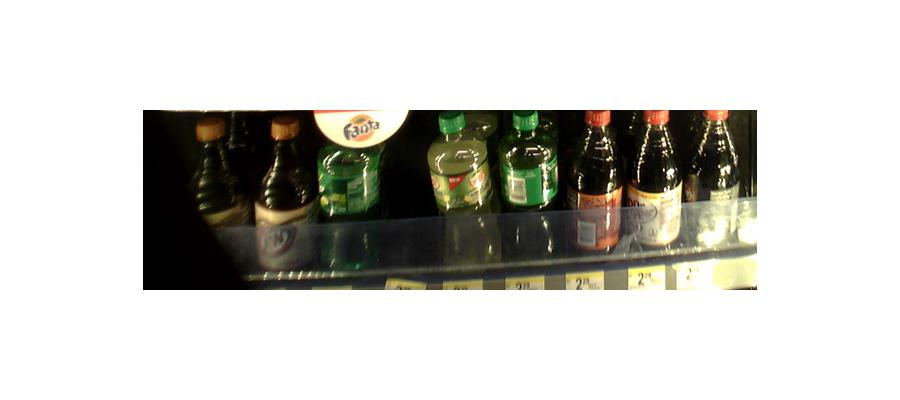bottle: (315, 110, 391, 273), (430, 111, 498, 267), (499, 110, 562, 259), (256, 112, 315, 271), (569, 106, 623, 259), (628, 110, 682, 253), (690, 108, 740, 256), (192, 116, 247, 244)
